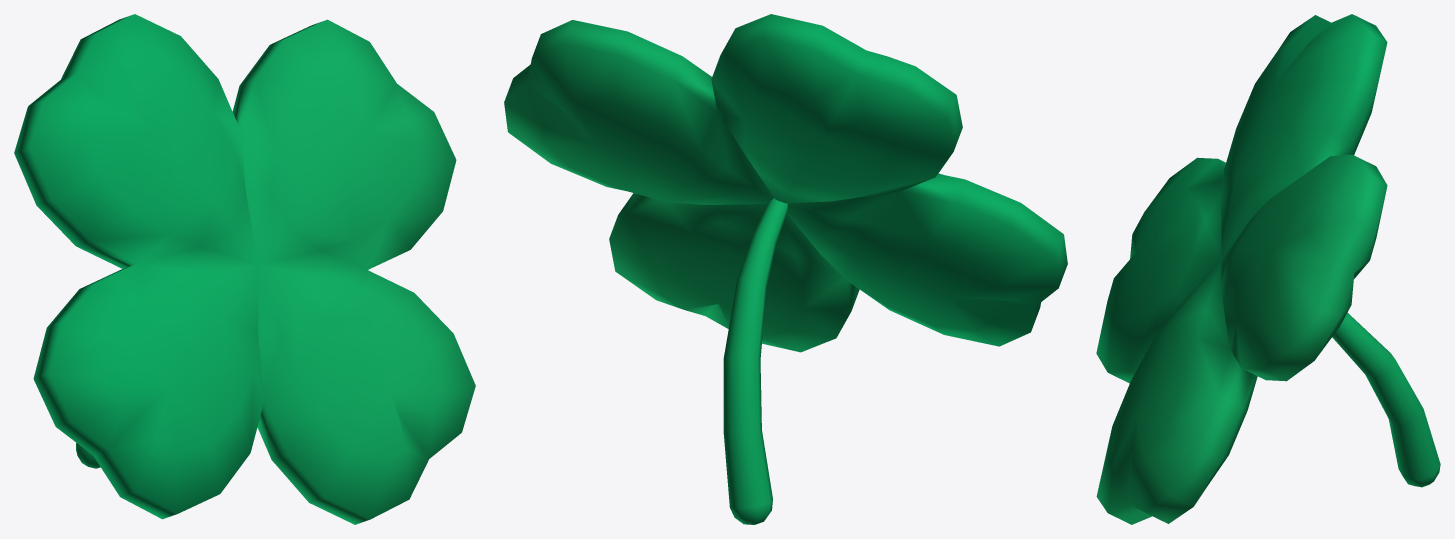
3 views of the same model, side by side, from view 1: azimuth 30°, elevation 25°; view 2: azimuth 150°, elevation 25°; view 3: azimuth 270°, elevation 25° (orthographic). The views are drawn at different scales.
Visible parts, largest first — view 1: model_1.051; view 2: model_1.051; view 3: model_1.051.
Part boxes in pixels (bbox=[...]): model_1.051: bbox=[14, 14, 475, 524]; model_1.051: bbox=[504, 14, 1067, 524]; model_1.051: bbox=[1096, 14, 1440, 524].
Bounding box in the file's own units: 4.63 × 4.4 × 2.99.
